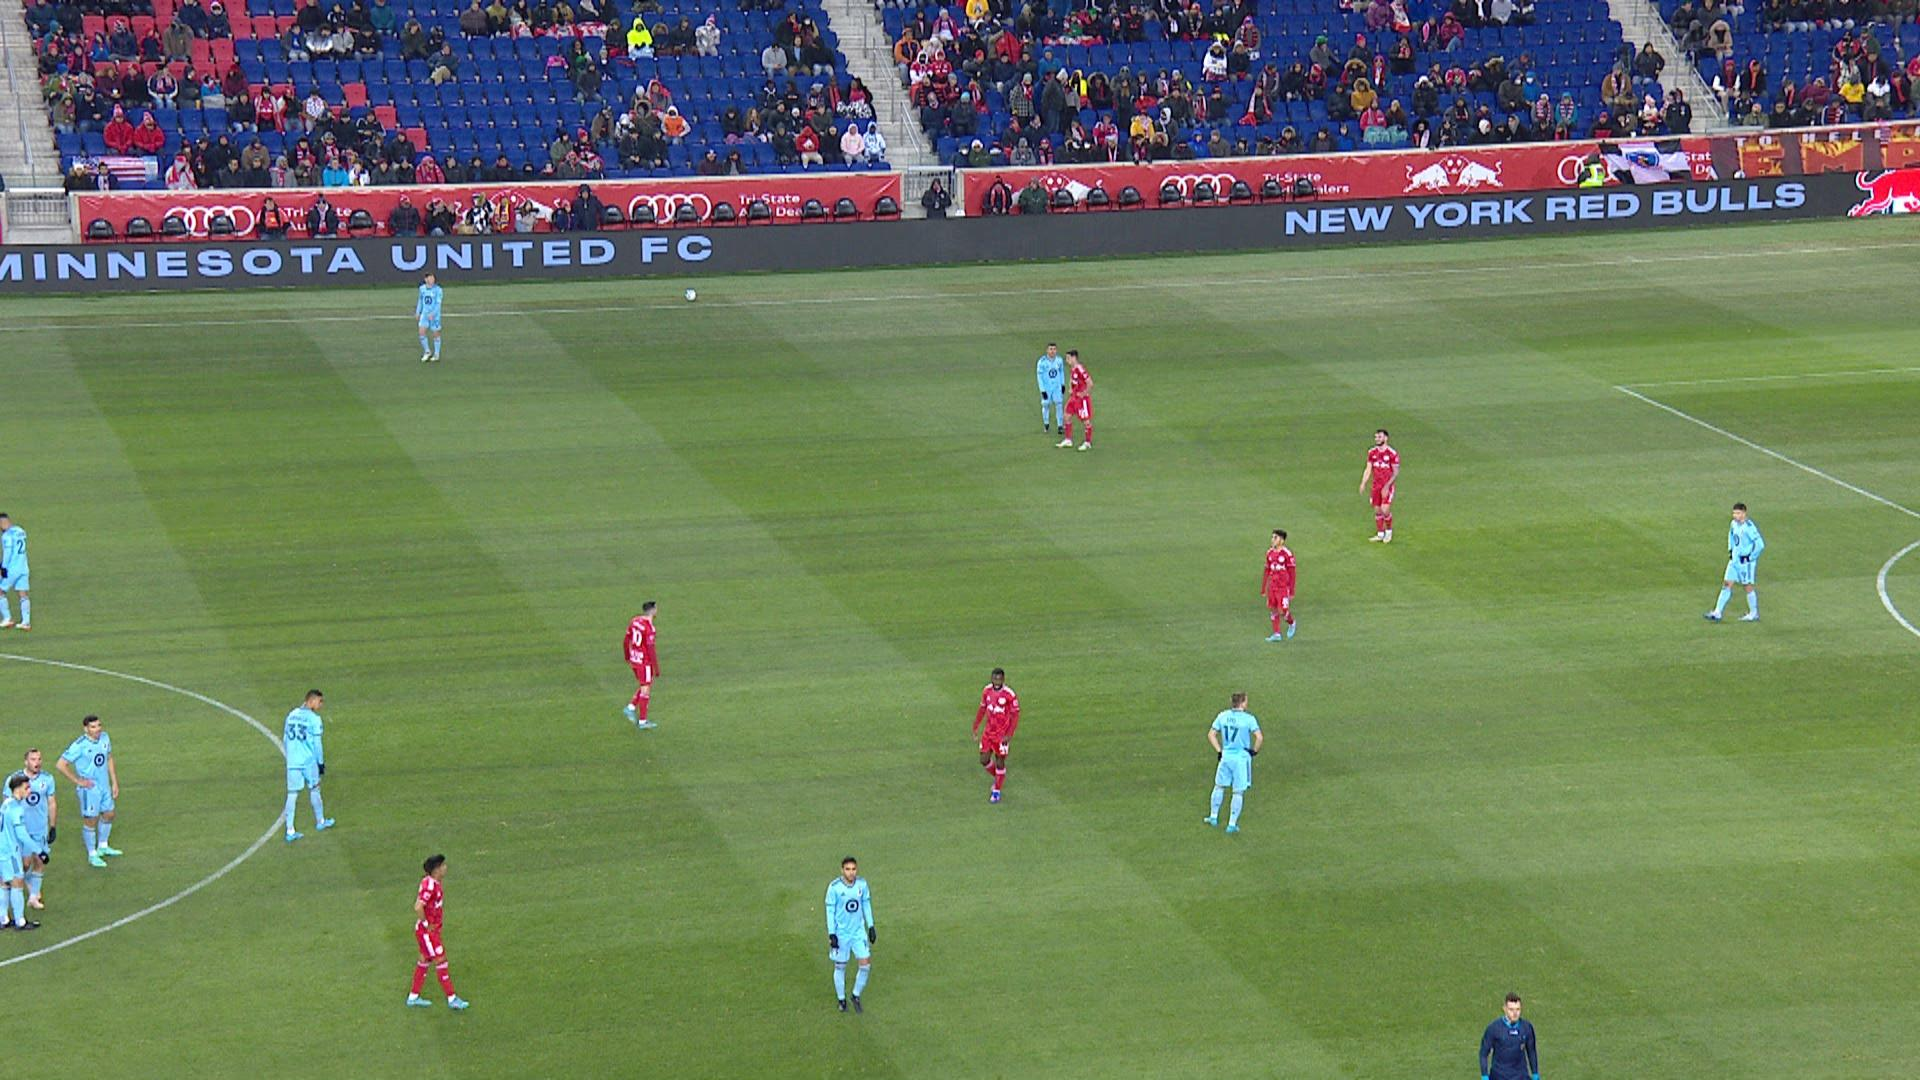football: (686, 289, 698, 302)
